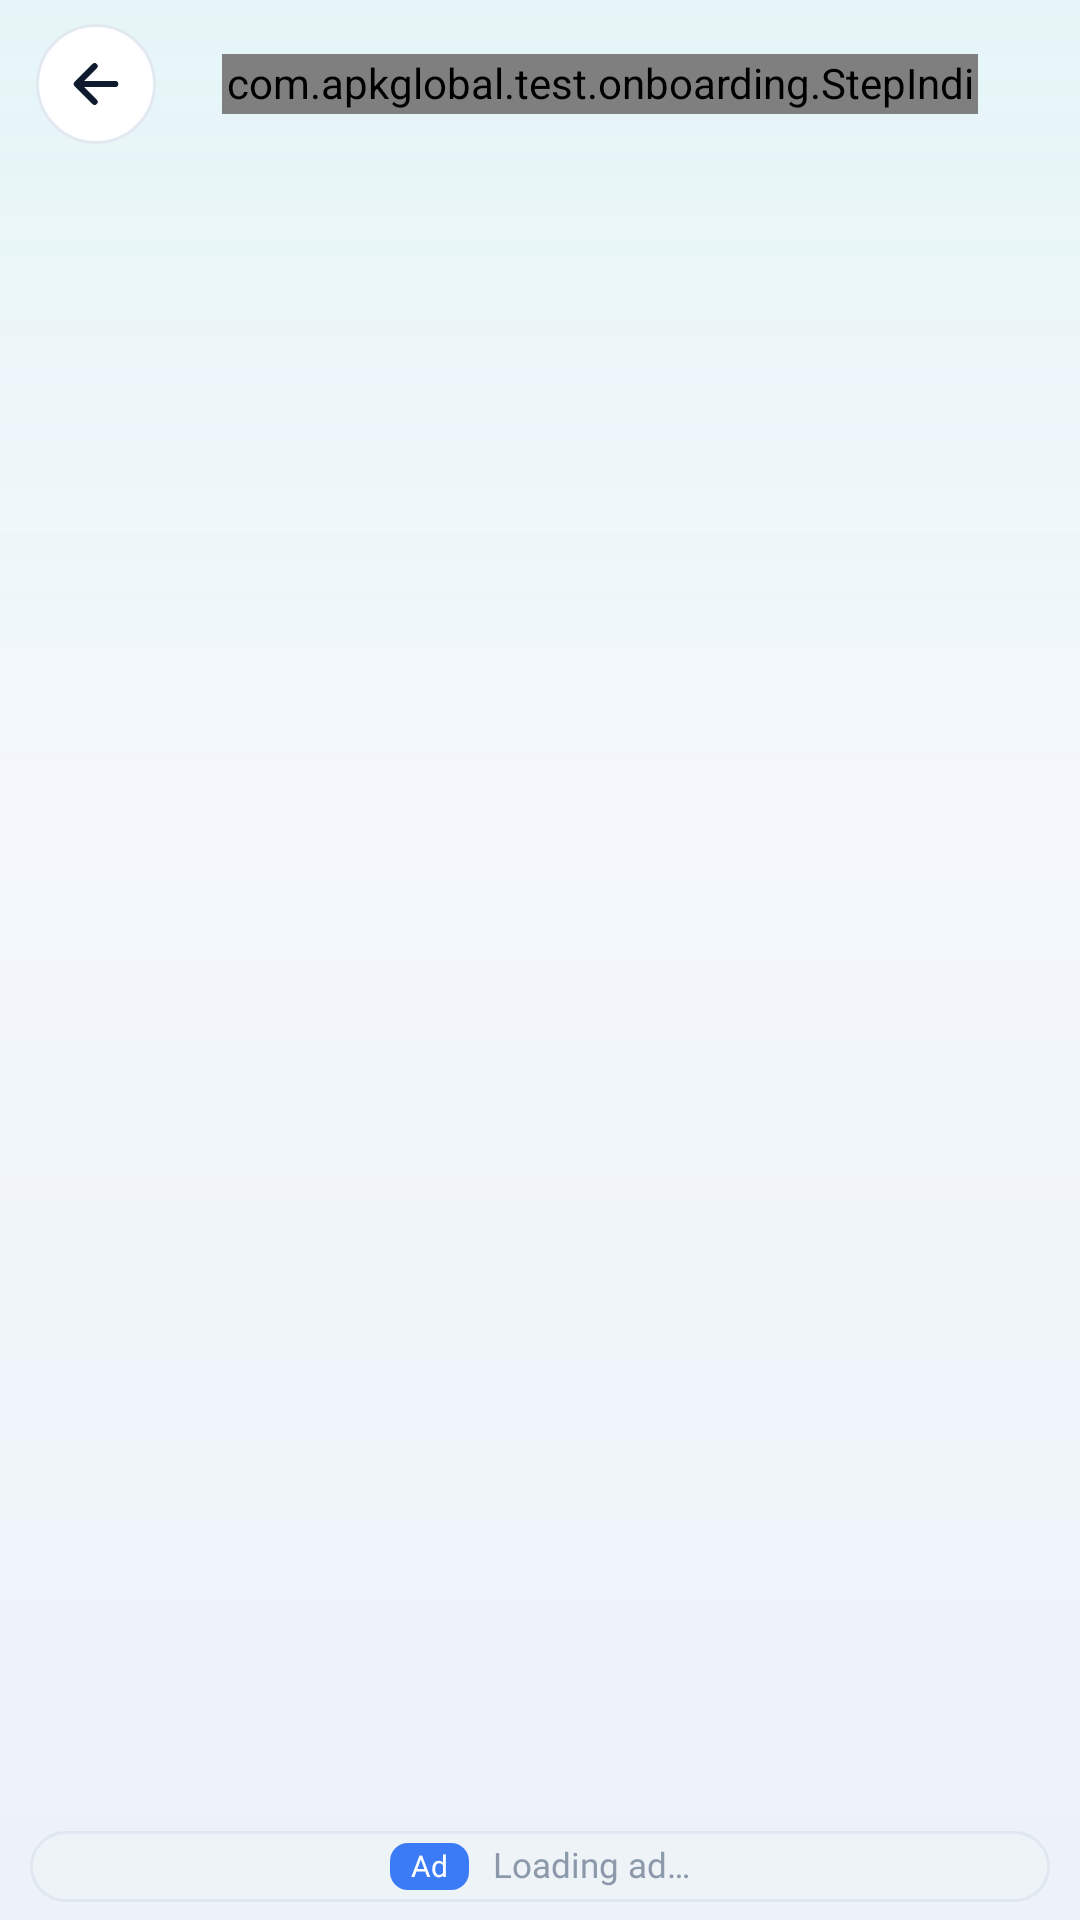

Named icons in this screenshot (1080px x 1920px) and their bounding boxes, (x1, y1, x2, y2):
Back: (39, 27, 153, 141)
